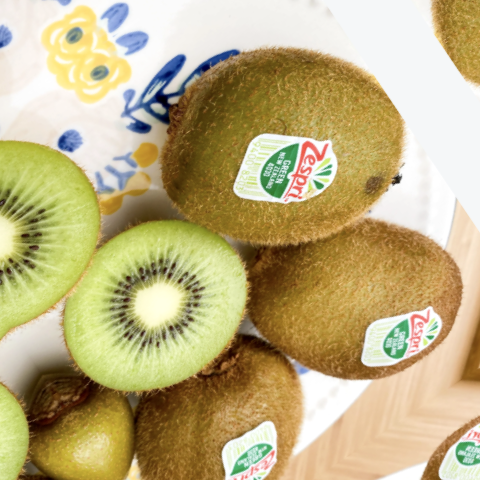kiwi: (99, 0, 455, 330), (218, 155, 480, 441), (81, 302, 358, 480)
